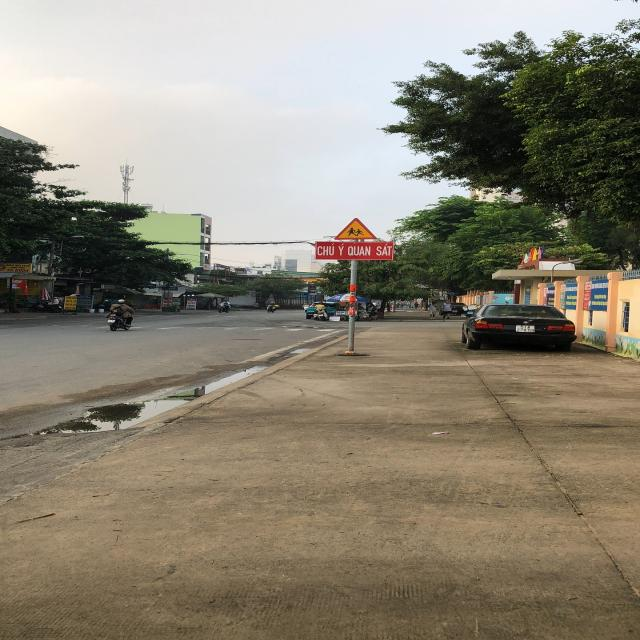Bien bao tre em: (332, 214, 378, 241)
